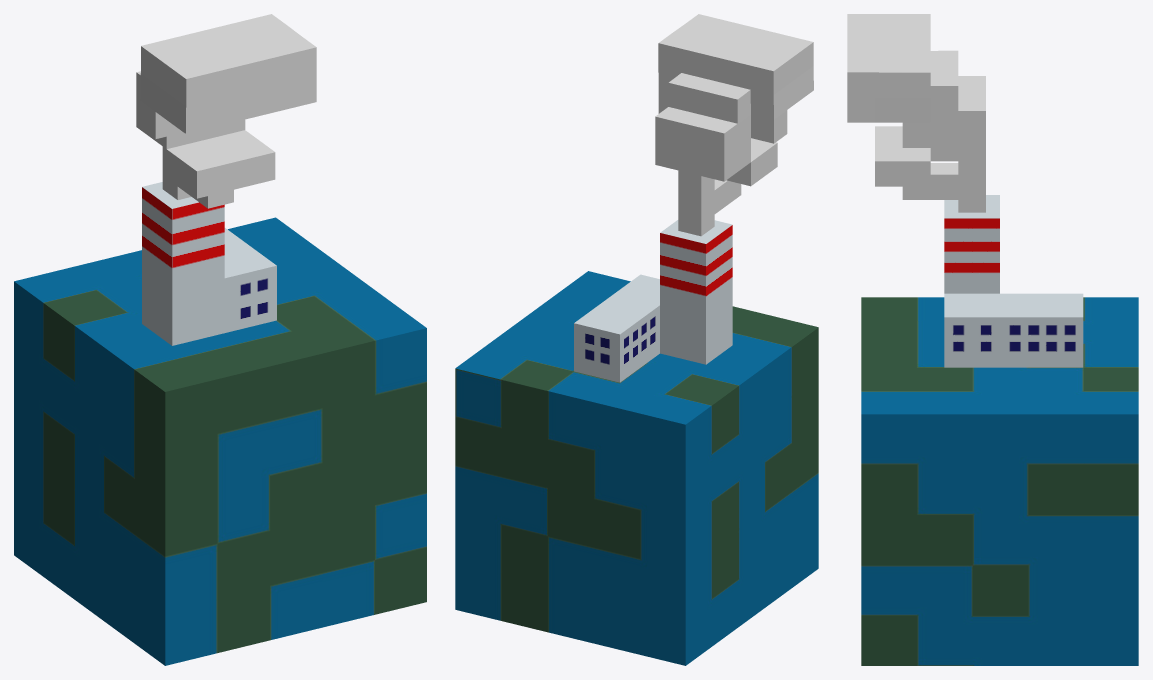
3 views of the same model, side by side, from view 1: azimuth 30°, elevation 25°; view 2: azimuth 150°, elevation 25°; view 3: azimuth 270°, elevation 25° (orthographic). The views are drawn at different scales.
Visible parts, largest first — view 1: Box001, Box003, Box002; view 2: Box001, Box003, Box002; view 3: Box001, Box003, Box002.
Boxes of the visible parts, box(x1,y1,x2,y2) form: Box001: box(14, 217, 426, 665); Box003: box(136, 14, 316, 208); Box002: box(142, 182, 276, 345); Box001: box(455, 271, 818, 665); Box003: box(655, 14, 813, 236); Box002: box(574, 220, 732, 382); Box001: box(861, 297, 1138, 665); Box003: box(847, 14, 985, 212); Box002: box(944, 195, 1083, 367).
Bounding box in the file's own units: 100 × 215 × 105.
